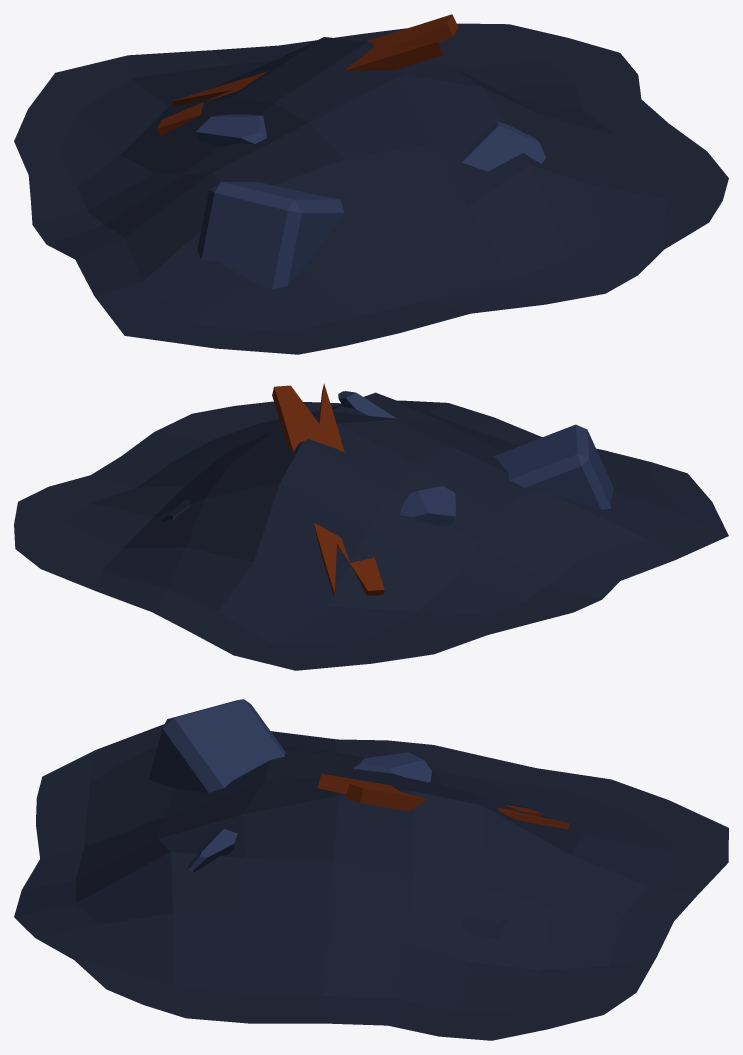
The model's file is Prop_Debris.obj.
3 views of the same model, one above another, from view 1: azimuth 30°, elevation 25°; view 2: azimuth 150°, elevation 25°; view 3: azimuth 270°, elevation 25° (orthographic). The views are drawn at different scales.
Visible parts, largest first — view 1: EXPORT_Prop_Debris; view 2: EXPORT_Prop_Debris; view 3: EXPORT_Prop_Debris.
Part boxes in pixels (<box>): EXPORT_Prop_Debris: <box>14,14,728,354</box>; EXPORT_Prop_Debris: <box>14,383,728,670</box>; EXPORT_Prop_Debris: <box>14,699,728,1040</box>.
Size of the model in its own units: 2.21 by 0.6353 by 2.11.
